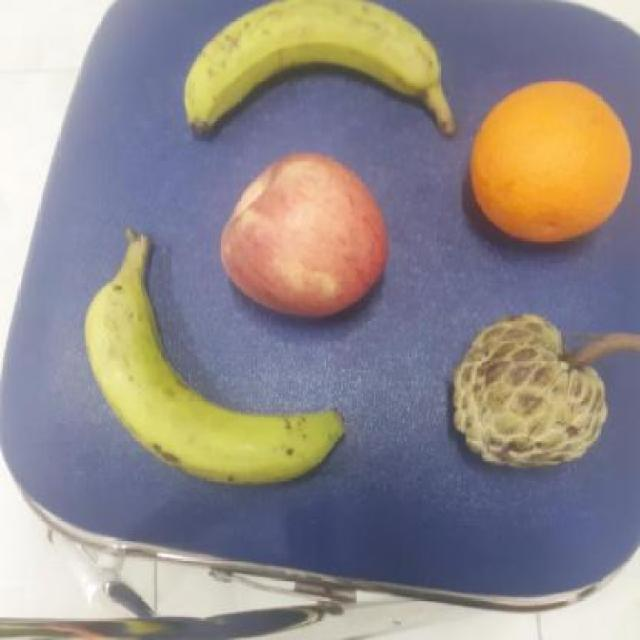apple: (210, 149, 392, 322)
banana: (83, 233, 348, 484), (175, 0, 452, 140)
oren: (468, 81, 634, 244)
sugar apple: (442, 314, 609, 481)
